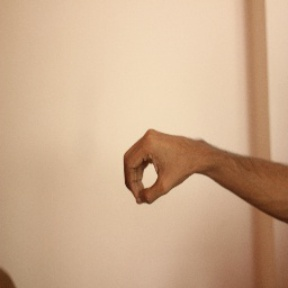O: (119, 125, 205, 207)
